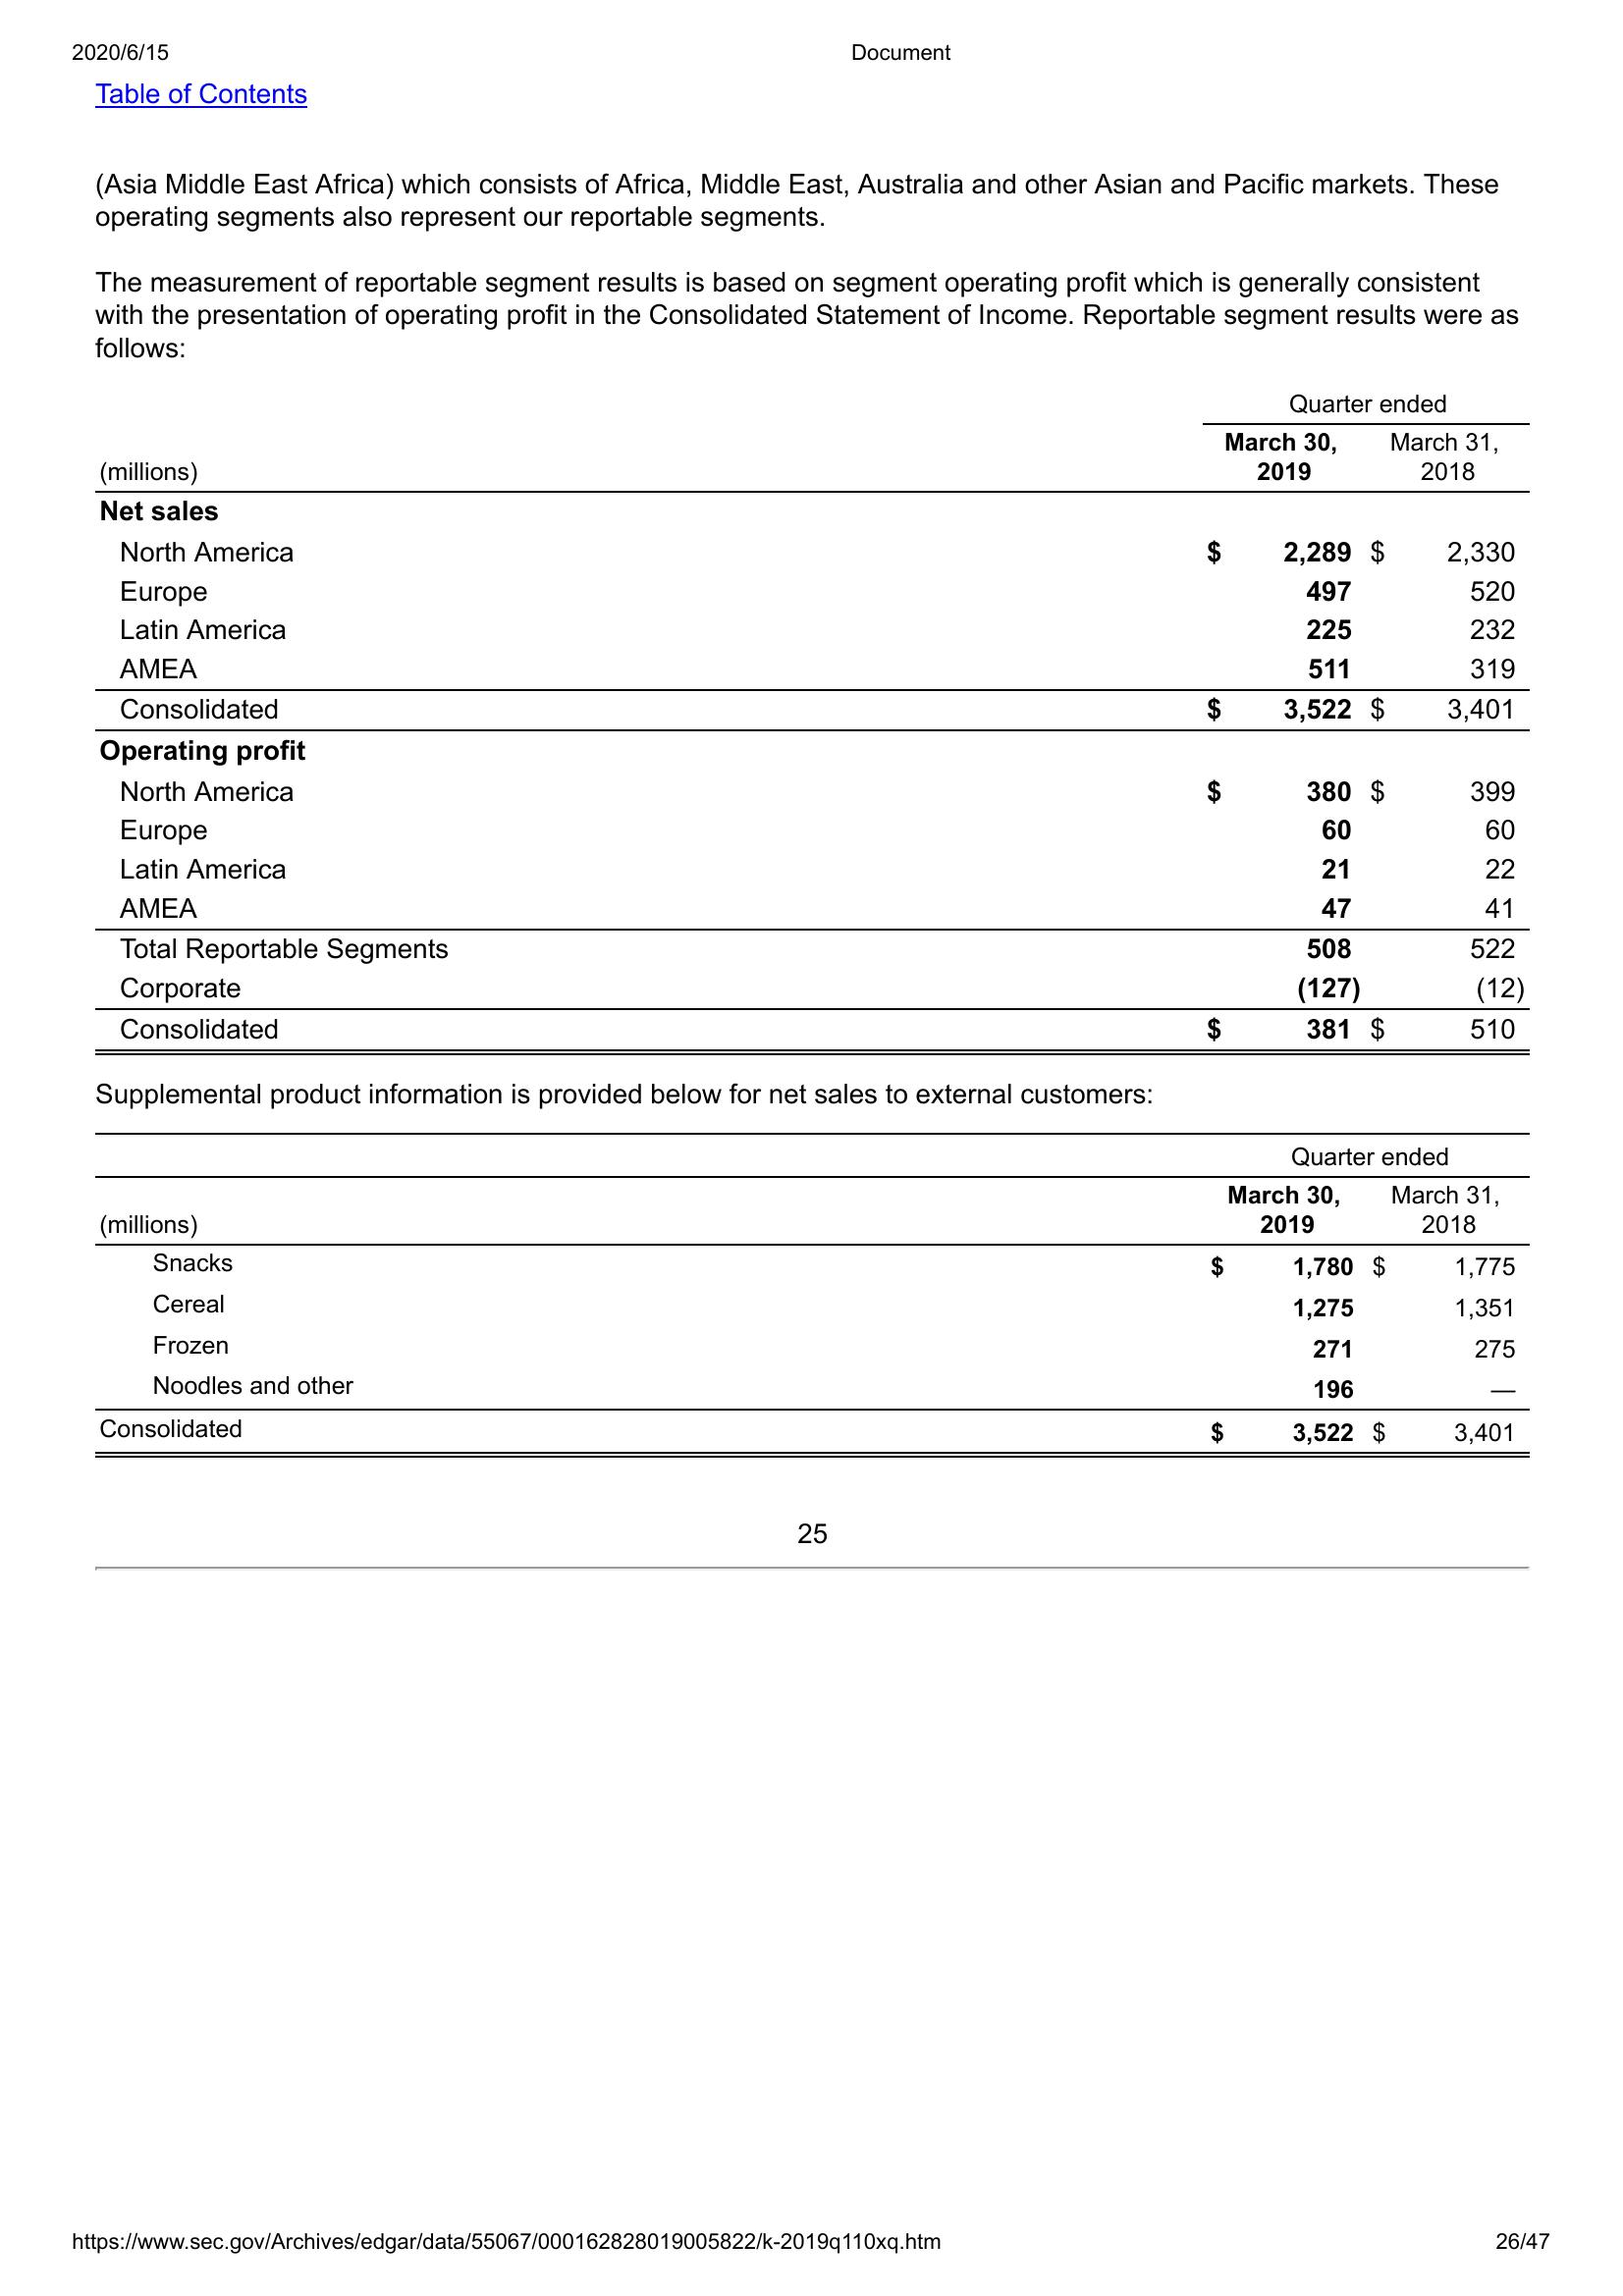table: (84, 388, 1537, 1064), (95, 1125, 1539, 1460)
